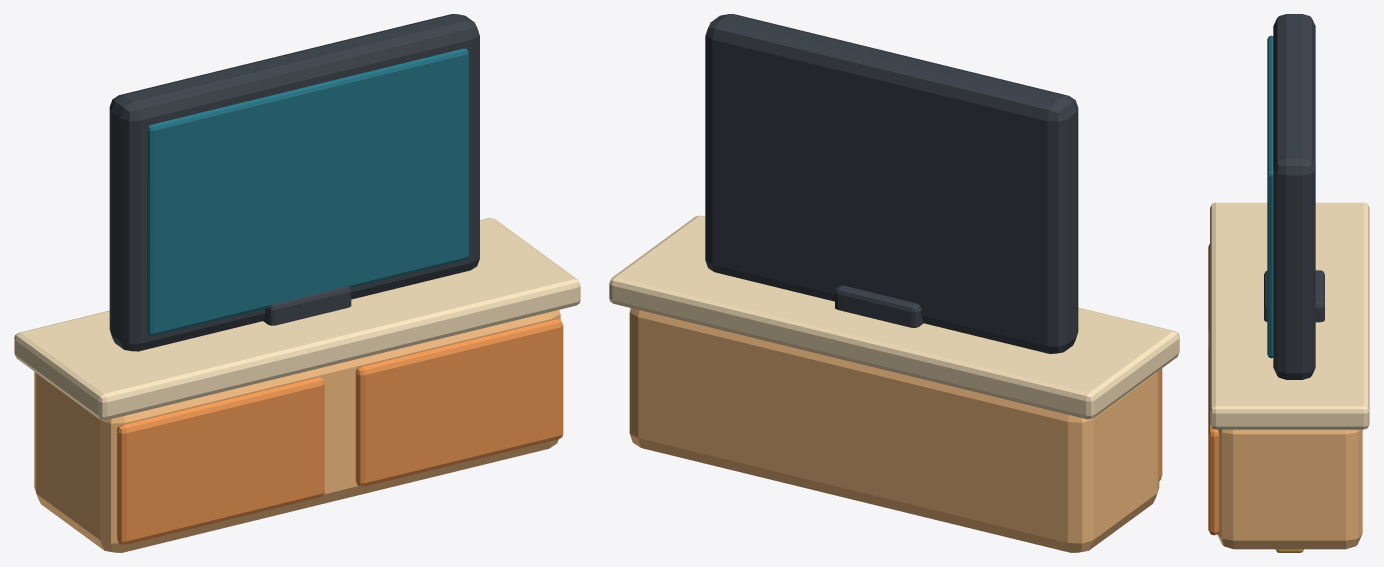
File: TvConsole.fbx
3 renders of one model, left to right at view 1: azimuth 30°, elevation 25°; view 2: azimuth 150°, elevation 25°; view 3: azimuth 270°, elevation 25°, orthographic. The views are drawn at different scales.
Parts seen in each view (by area): view 1: Screen, Console_Top, Screen_Frame, Cabinet_Right, Cabinet_Left, Console_Body, Tv_Stand; view 2: Screen_Frame, Console_Body, Console_Top, Tv_Stand; view 3: Console_Top, Console_Body, Screen_Frame, Screen, Cabinet_Right, Tv_Stand.
Part boxes in pixels (box(x1,y1,x2,y2)): Screen: box(147, 48, 468, 335); Console_Top: box(14, 218, 580, 420); Screen_Frame: box(109, 14, 479, 351); Cabinet_Right: box(355, 319, 563, 486); Cabinet_Left: box(117, 377, 324, 544); Console_Body: box(34, 310, 560, 552); Tv_Stand: box(263, 286, 351, 325); Screen_Frame: box(705, 14, 1078, 353); Console_Body: box(629, 308, 1159, 552); Console_Top: box(609, 215, 1179, 419); Tv_Stand: box(835, 285, 923, 327); Console_Top: box(1210, 202, 1369, 429); Console_Body: box(1217, 429, 1362, 549); Screen_Frame: box(1273, 14, 1315, 379); Screen: box(1267, 35, 1273, 358); Cabinet_Right: box(1208, 347, 1219, 535); Tv_Stand: box(1264, 270, 1324, 322).
Bounding box in the file's own units: 210 × 179 × 68.7.
